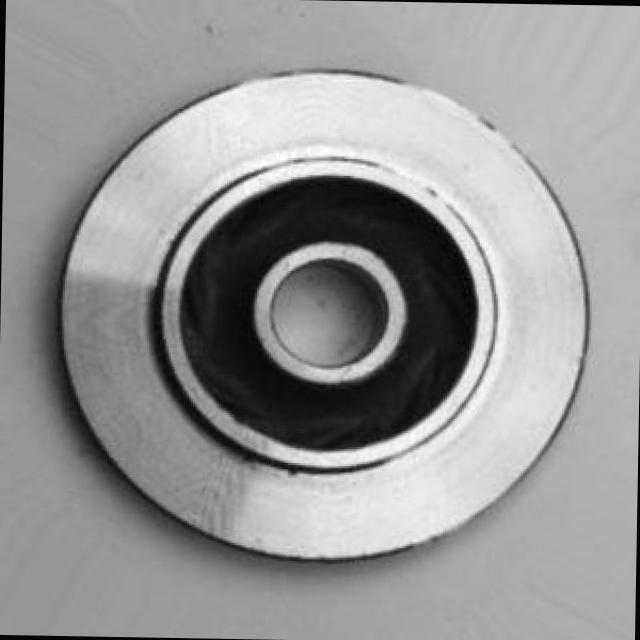Defect: (276, 454, 309, 491)
